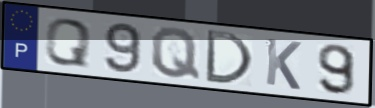9: (100, 21, 144, 76), (316, 43, 357, 97)
D: (203, 28, 256, 87)
K: (263, 36, 304, 92)
Q: (149, 26, 203, 82), (42, 17, 94, 69)
